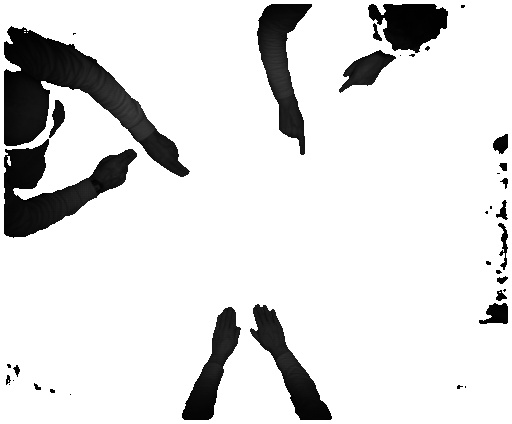hand: (201, 304, 244, 362), (247, 304, 296, 354), (272, 101, 311, 159), (146, 135, 191, 183), (95, 149, 141, 195), (336, 55, 387, 95)
